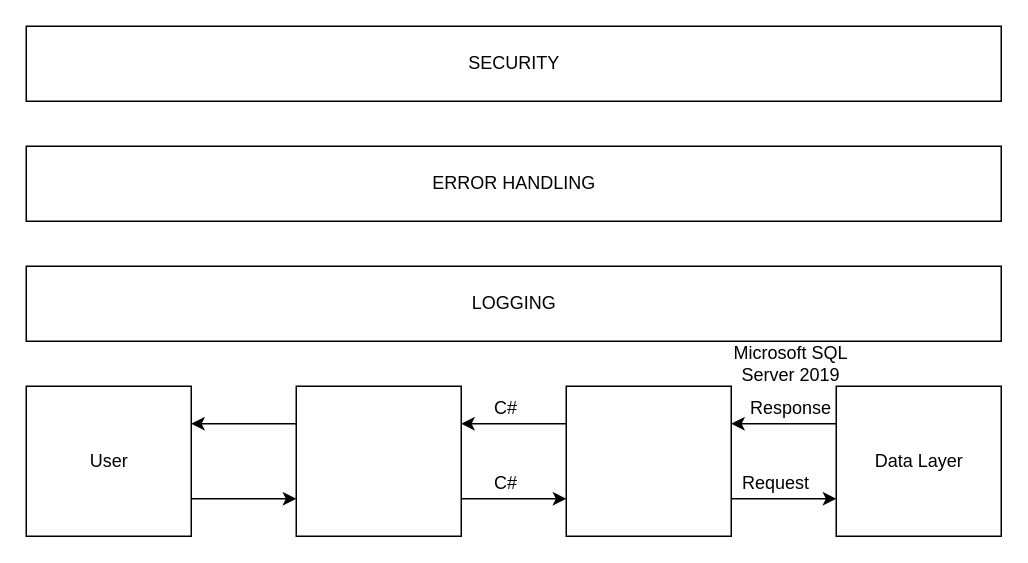
Image size: 1028x563. Some labels were removed from this diagram. The box of each missing label's shape, as (x1, y1, x2, y2) in pixels:
Application Layer: (565, 385, 731, 536)
Presentation Layer (MVVM): (295, 385, 461, 536)
